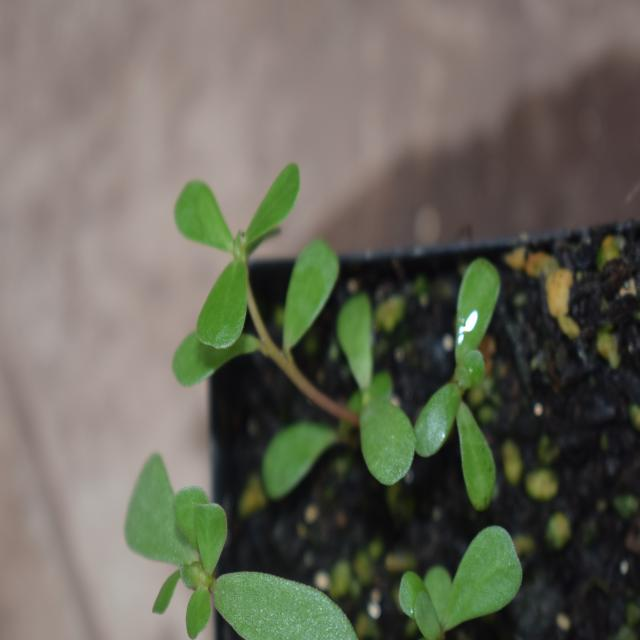purslane: (169, 163, 529, 521), (116, 448, 380, 628)
